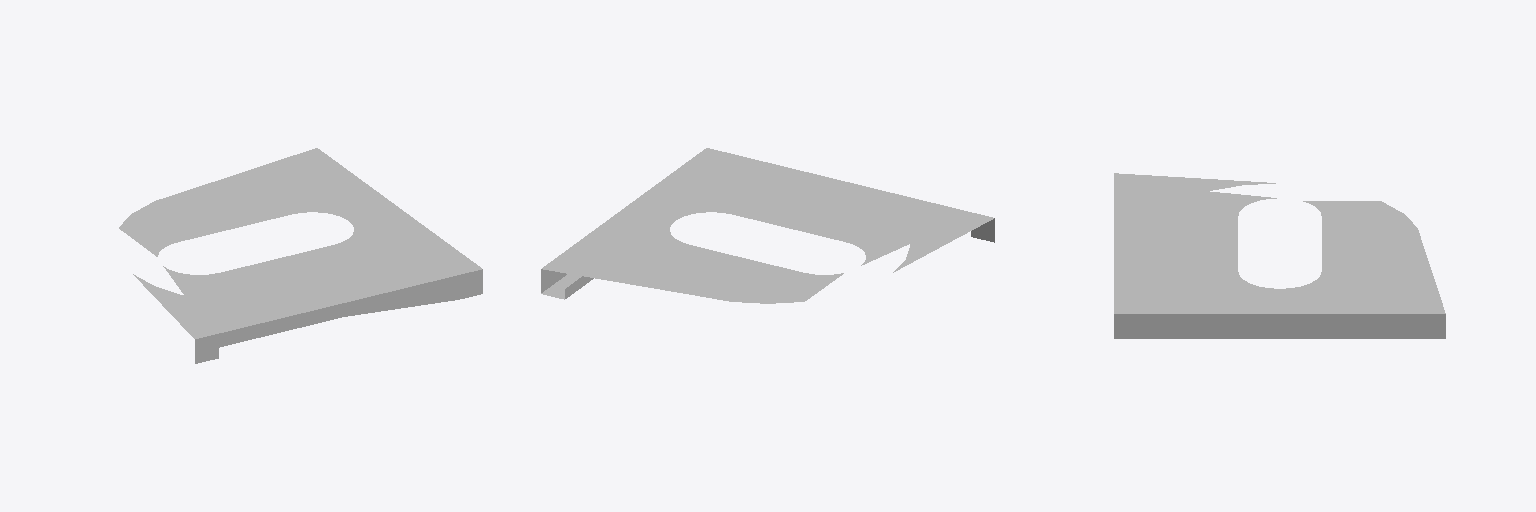
The model's file is microscope__20.obj.
The picture shows the model from 3 angles: view 1: azimuth 30°, elevation 25°; view 2: azimuth 150°, elevation 25°; view 3: azimuth 270°, elevation 25°; orthographic projection.
Visible parts, largest first — view 1: grp20; view 2: grp20; view 3: grp20.
Boxes of the visible parts, <box> form: grp20: <box>119,148,482,363</box>; grp20: <box>541,148,994,303</box>; grp20: <box>1114,173,1445,338</box>.
Bounding box in the file's own units: 280 × 23 × 279.